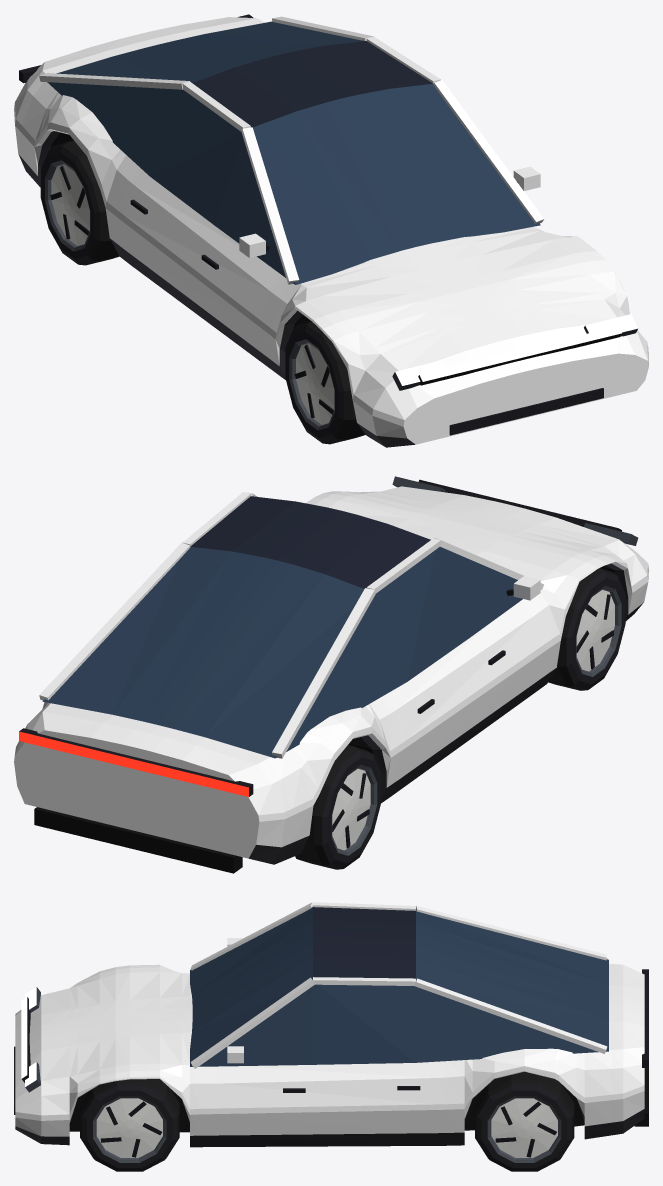
Rendered from electric.glb.
The picture shows the model from 3 angles, top to bottom: view 1: azimuth 30°, elevation 25°; view 2: azimuth 150°, elevation 25°; view 3: azimuth 270°, elevation 25°; orthographic projection. The views are drawn at different scales.
Visible parts, largest first — view 1: paint, glass, glass_dark, stripe_a, tire_side (×2), part_17 (×2), trim_soft, trim, stripe_b, tire (×2), rim_gunmetal (×2), headlight_drl (+1 smaller); view 2: paint, glass, glass_dark, stripe_a, tire_side (×2), trim_under, part_17 (×2), trim_soft, tire (×2), stripe_b, taillight, trim (+2 smaller); view 3: paint, glass, glass_dark, part_17 (×2), tire_side (×2), stripe_a, trim_soft, stripe_b, tire (×2), trim (×3), rim_gunmetal (×2), trim_under (+1 smaller).
Boxes of the visible parts, box(x1,y1,x2,y2) form: paint: box(15, 16, 648, 444); glass: box(47, 21, 540, 284); glass_dark: box(192, 41, 432, 127); stripe_a: box(91, 24, 571, 383); tire_side (×2): box(40, 146, 344, 443); part_17 (×2): box(51, 164, 334, 424); trim_soft: box(18, 131, 415, 447); trim: box(19, 14, 621, 435); stripe_b: box(14, 103, 648, 426); tire (×2): box(49, 140, 365, 444); rim_gunmetal (×2): box(45, 160, 334, 430); headlight_drl: box(419, 326, 621, 381); paint: box(14, 486, 648, 858); glass: box(42, 546, 522, 758); glass_dark: box(190, 496, 430, 588); stripe_a: box(91, 495, 555, 760); tire_side (×2): box(322, 571, 625, 868); trim_under: box(34, 565, 614, 873); part_17 (×2): box(332, 589, 614, 850); trim_soft: box(249, 563, 643, 864); tire (×2): box(295, 568, 616, 869); stripe_b: box(14, 560, 648, 821); taillight: box(19, 731, 248, 796); trim: box(19, 479, 621, 796); paint: box(15, 902, 644, 1136); glass: box(190, 906, 608, 1066); glass_dark: box(313, 907, 415, 978); part_17 (×2): box(96, 1098, 557, 1157); tire_side (×2): box(82, 1085, 572, 1171); stripe_a: box(15, 985, 644, 1067); trim_soft: box(15, 1104, 644, 1147); stripe_b: box(15, 1066, 644, 1120); tire (×2): box(80, 1071, 574, 1159); trim (×3): box(14, 969, 648, 1157); rim_gunmetal (×2): box(93, 1096, 561, 1162); trim_under: box(69, 1068, 648, 1132).
Bounding box in the file's own units: 1.9 × 1.4 × 4.44.
